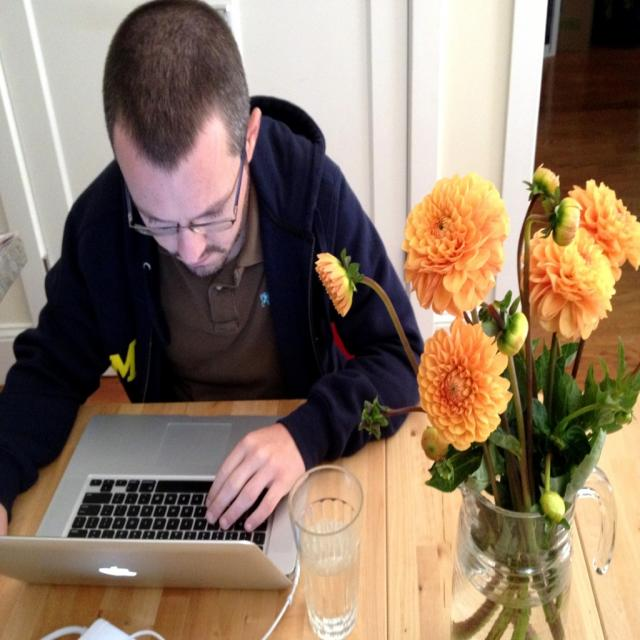desk: (0, 397, 639, 639)
laptop: (3, 404, 299, 592)
person: (0, 4, 428, 533)
